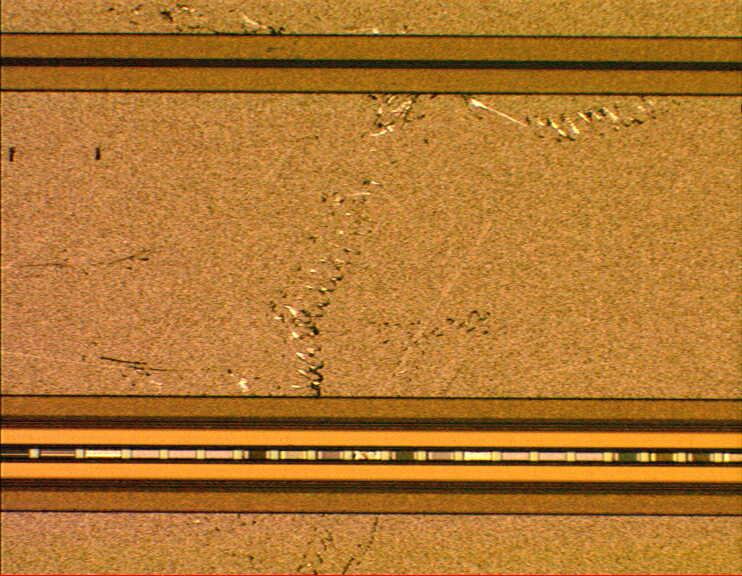SCRATCH: (1, 1, 714, 576)
